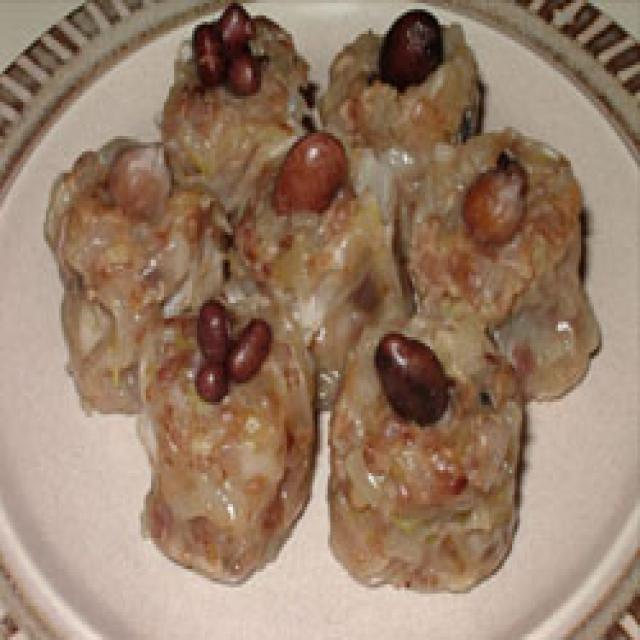带馅早点: (71, 3, 596, 588)
